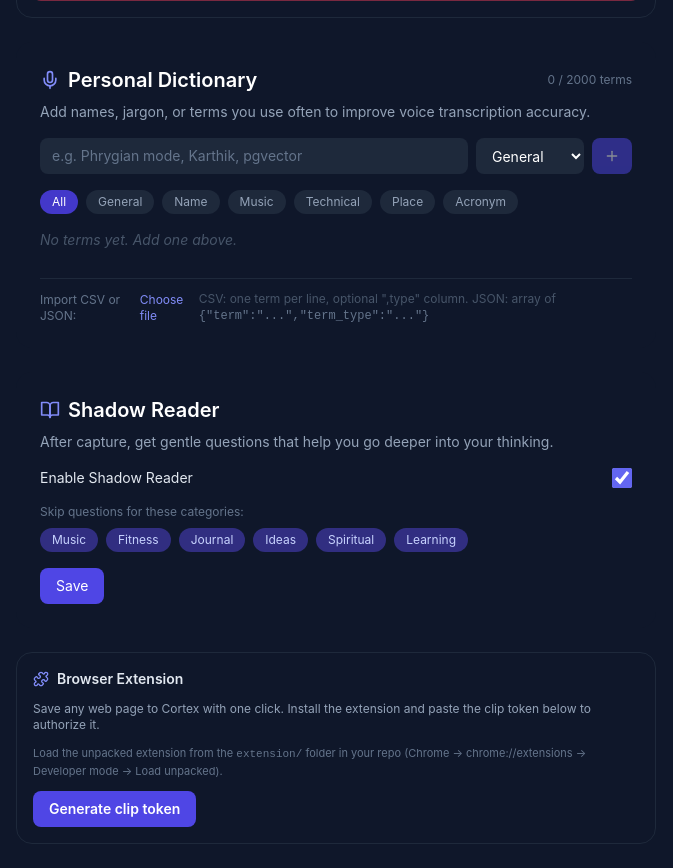
Scenario: SettingsPage — Browser Extension section (Round 19 / PR C) › error state shows retry button
(page scrolled)
Click the button "Generate clip token". click: (115,809)
box: left=33, top=791, right=196, bottom=827
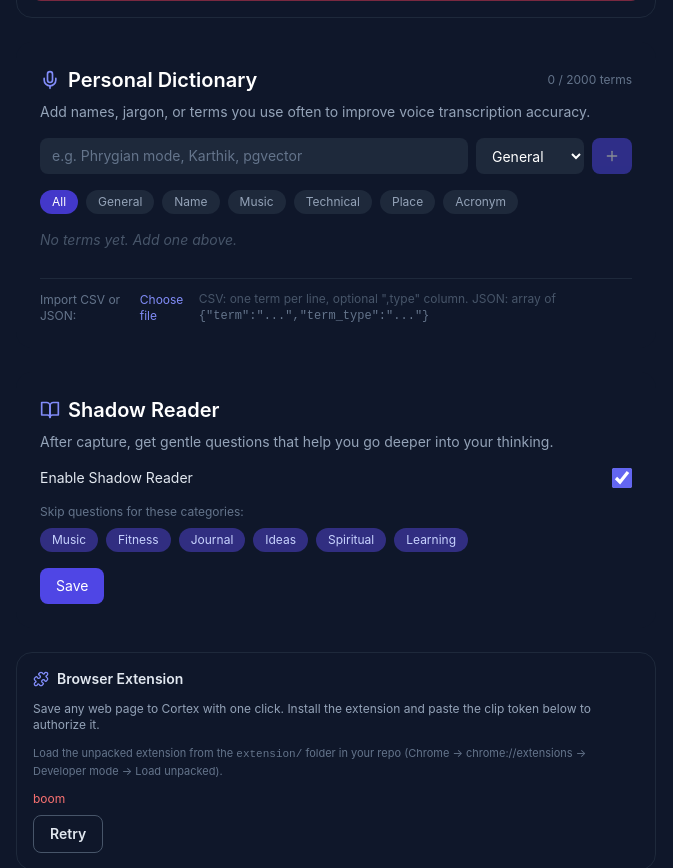
Expected: the button "Retry" is shown, left=33, top=815, right=103, bottom=853
